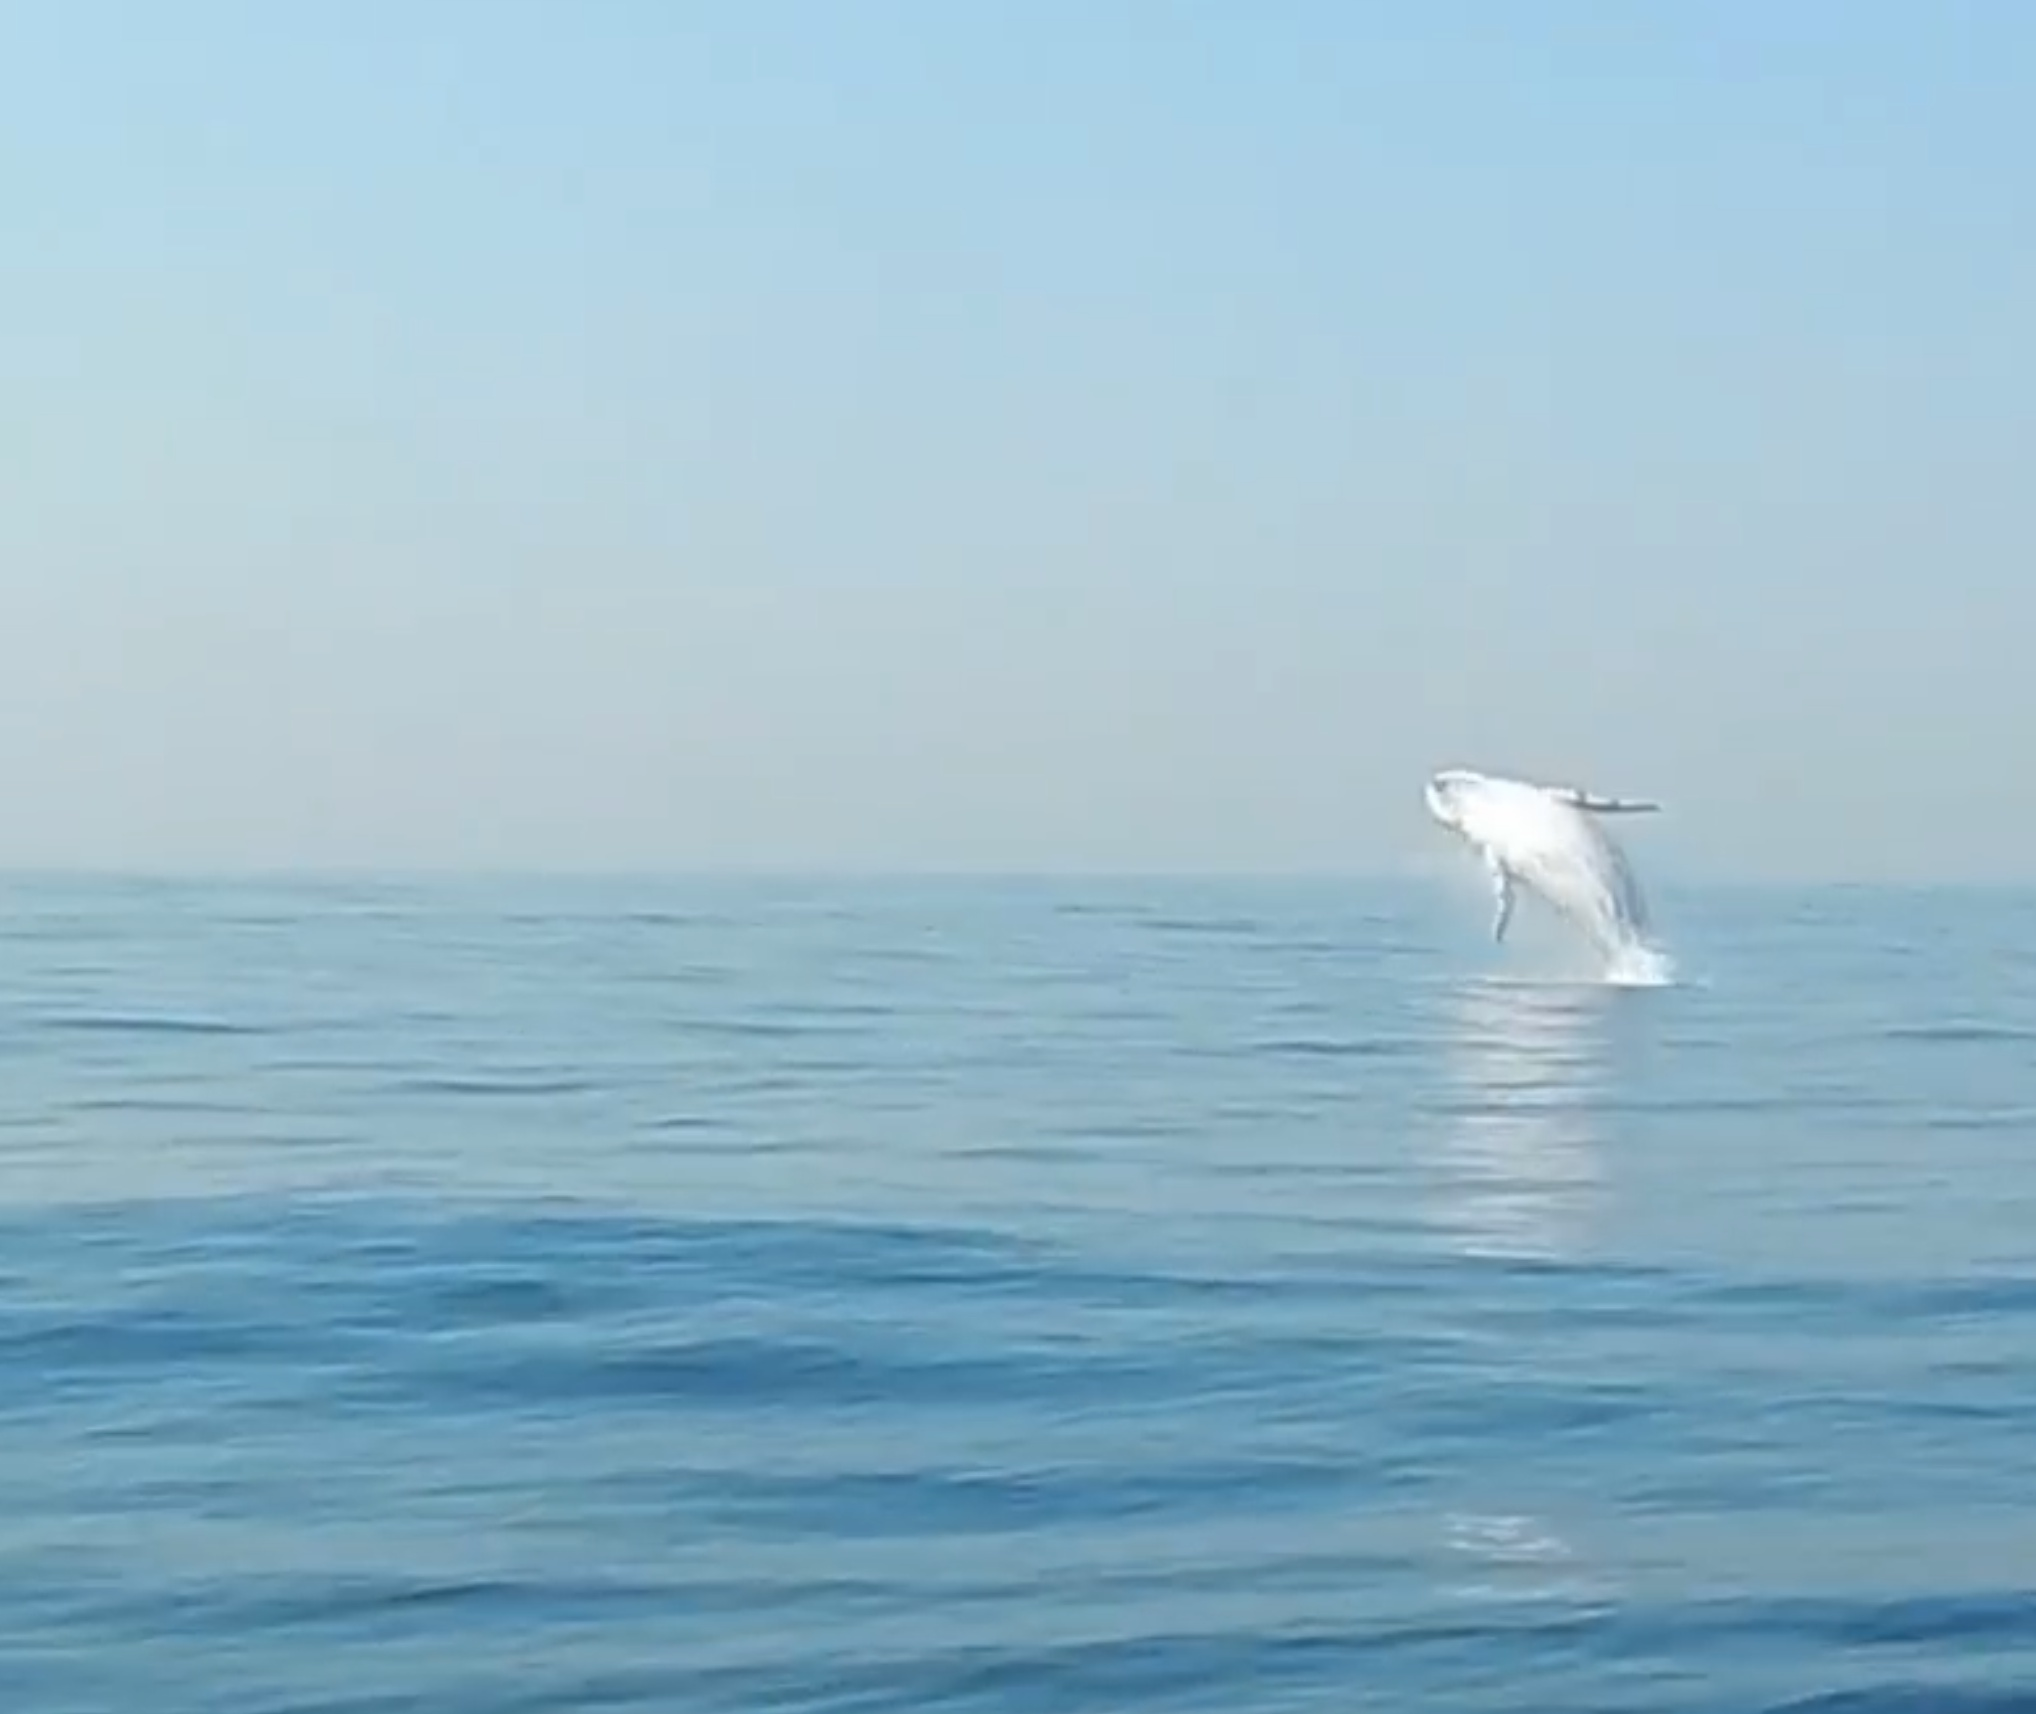humpback: (1422, 762, 1665, 976)
